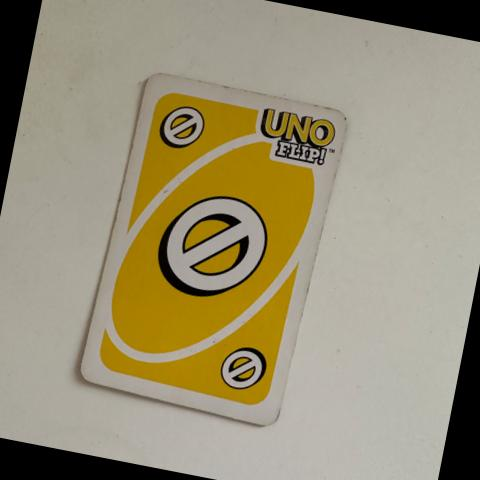4_yellow: (157, 195, 268, 298), (158, 103, 204, 150), (218, 345, 266, 388)
